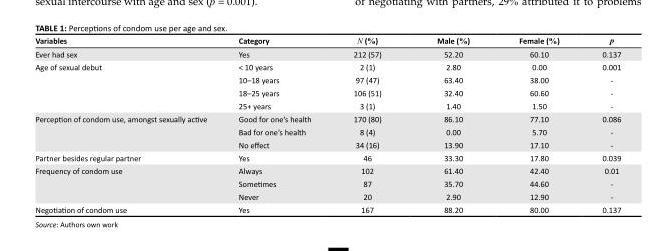table: (34, 34, 620, 214)
table column: (34, 34, 222, 214), (222, 34, 331, 214), (493, 34, 580, 214), (408, 34, 493, 214), (331, 34, 408, 214), (580, 34, 620, 214)
table column header: (34, 34, 620, 47)
table row: (34, 34, 620, 47), (34, 47, 620, 60), (34, 60, 620, 73), (34, 73, 620, 86), (34, 86, 620, 99), (34, 99, 620, 112), (34, 112, 620, 125), (34, 125, 620, 138), (34, 138, 620, 151), (34, 151, 620, 164), (34, 164, 620, 177), (34, 177, 620, 190), (34, 190, 620, 203), (34, 203, 620, 214)
table spanning cell: (34, 60, 222, 112), (34, 112, 222, 151), (34, 164, 222, 203)
